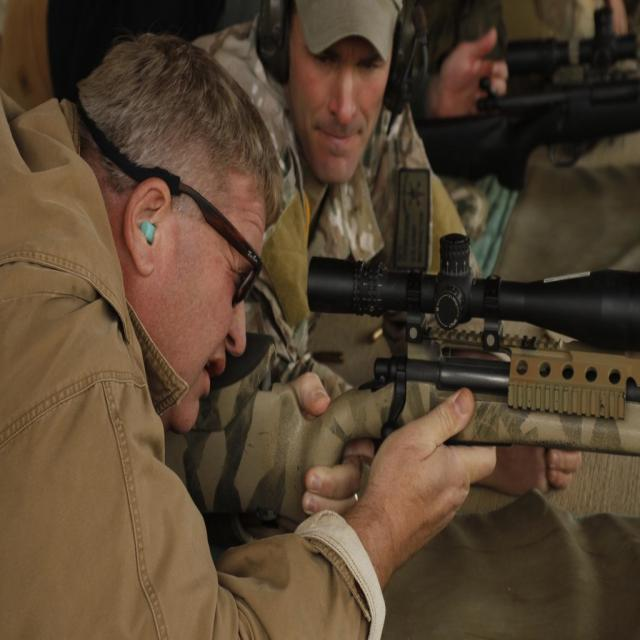weapon: (163, 232, 640, 524), (408, 70, 640, 196), (428, 1, 640, 94)
